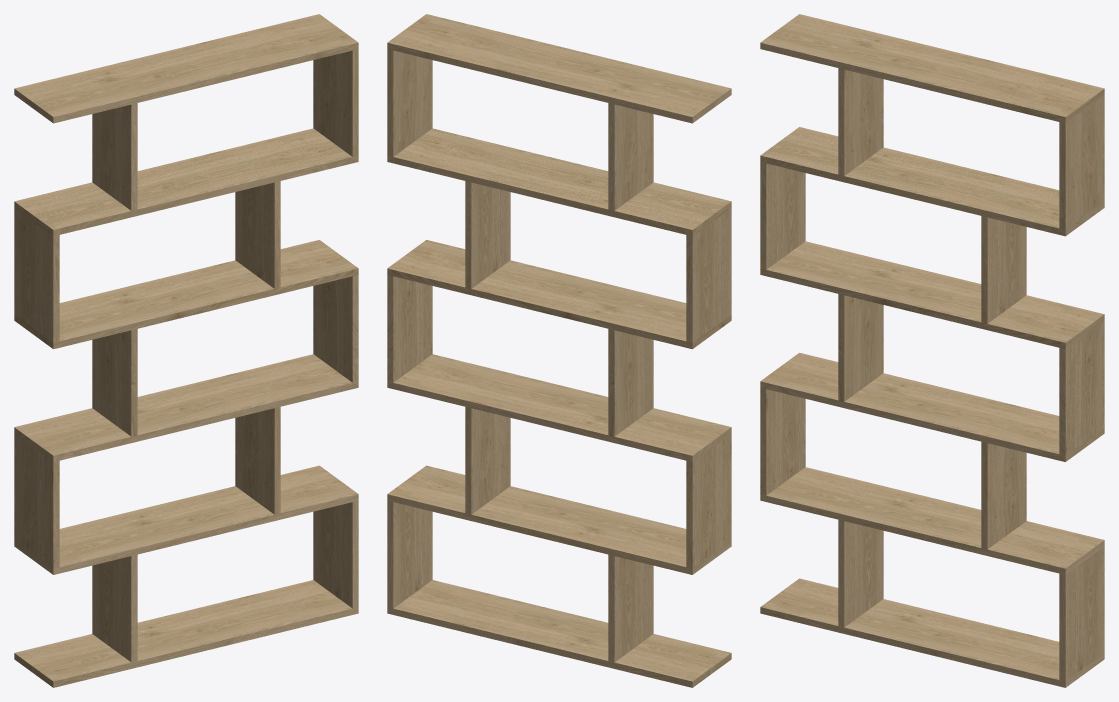
File: HiveShelf90cm.glb
3 renders of one model, left to right at view 1: azimuth 30°, elevation 25°; view 2: azimuth 150°, elevation 25°; view 3: azimuth 330°, elevation 25°, orthographic.
Bounding box in the file's own units: 0.9 × 1.61 × 0.2.
16 materials, 16 textured.
